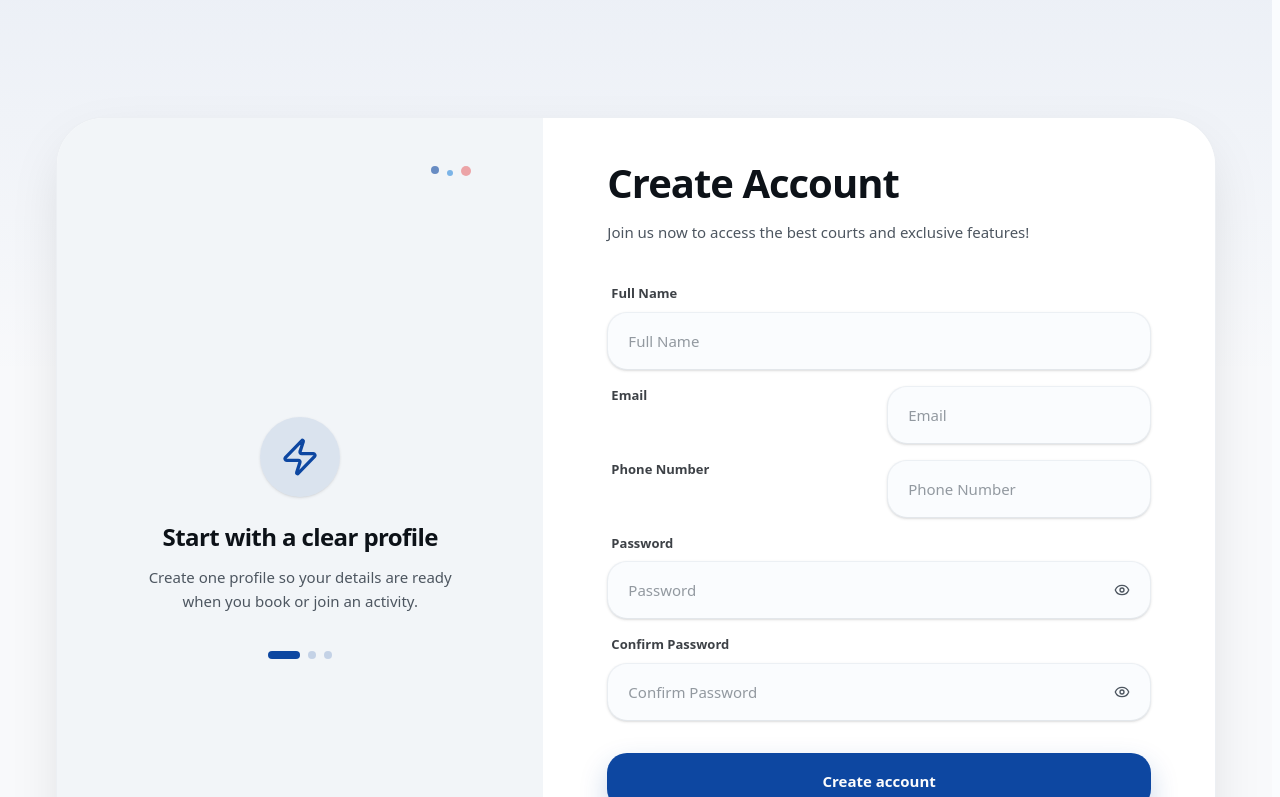
Test: Auth forms › RegisterForm › shows a visible error when registration fails because of a network issue
Type "Fresh User" into the field with placeholder "Full Name".
click(879, 341); type("Fresh User")  # box [608,313,1150,369]
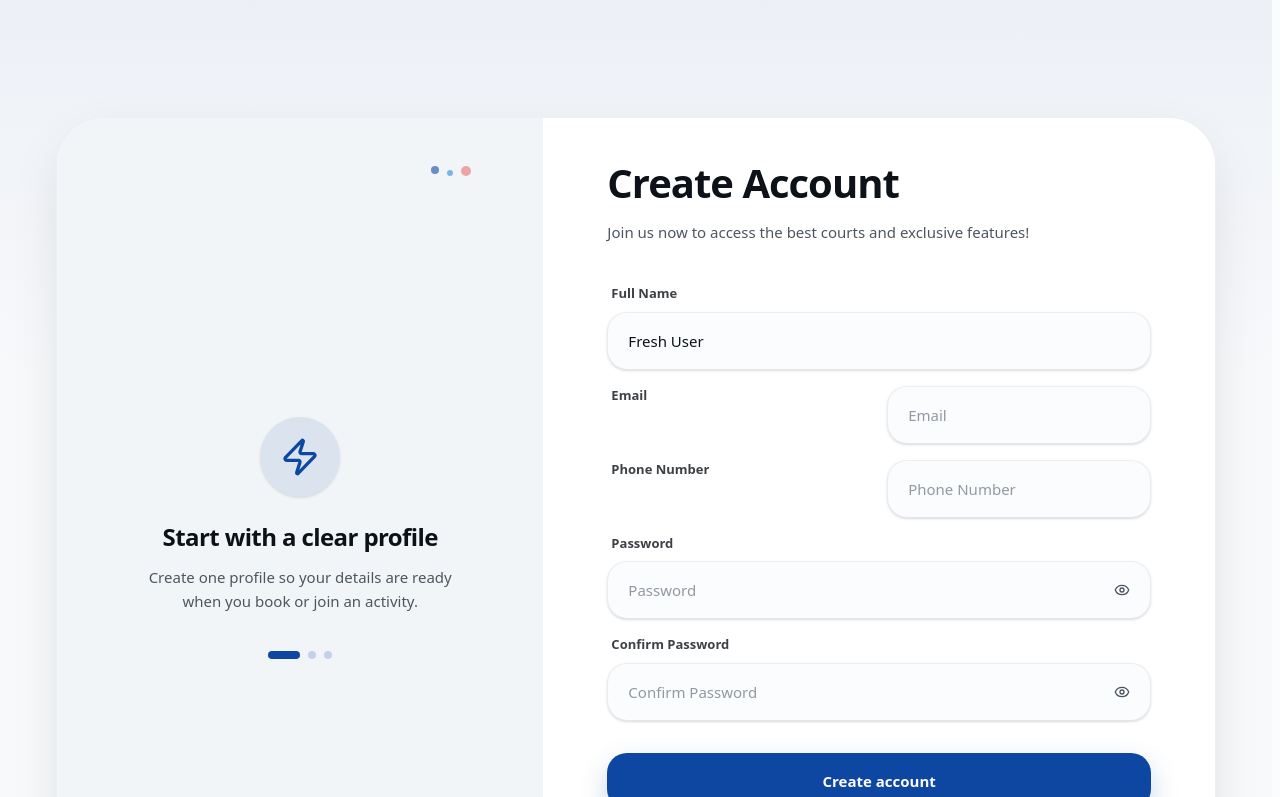
Type "fresh@example.com" into the field with placeholder "Email".
click(1019, 415); type("fresh@example.com")  # box [888,387,1150,443]
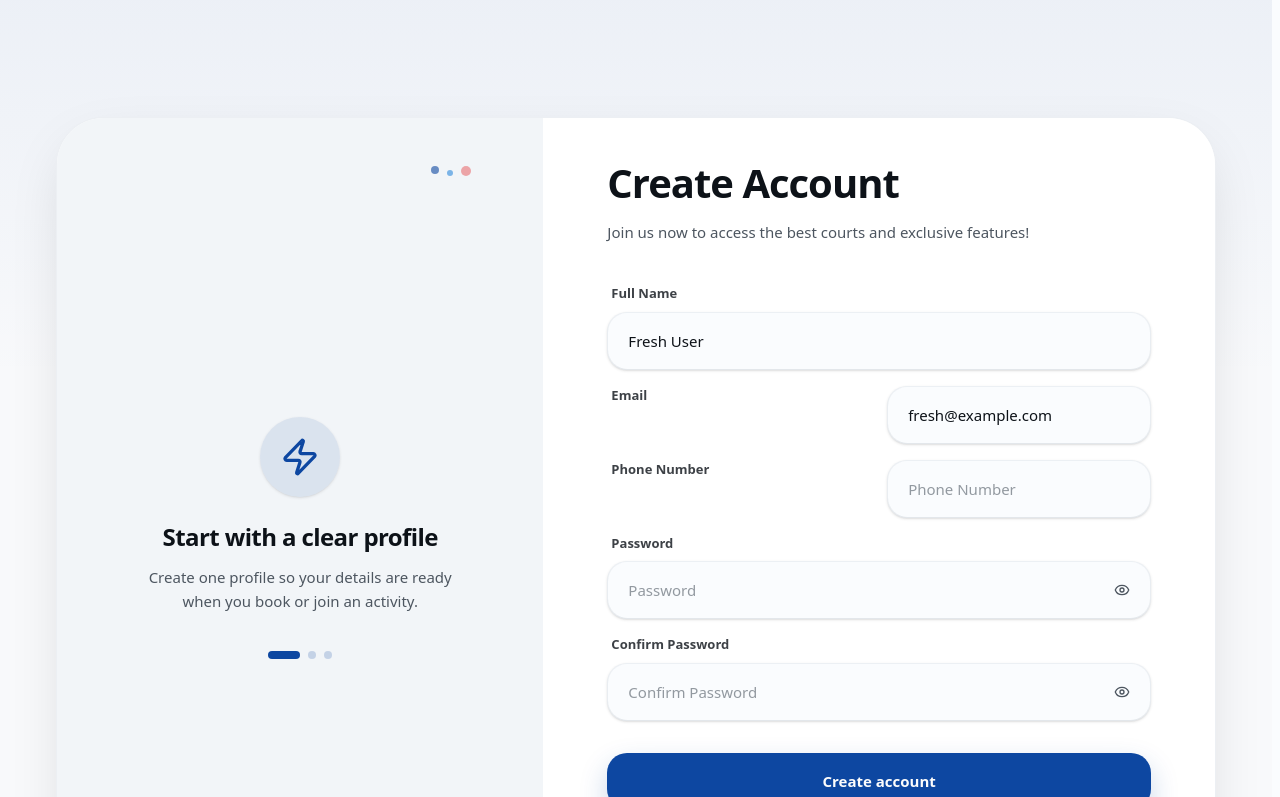
Type "01012345678" into the field with placeholder "Phone Number".
click(1019, 489); type("01012345678")  # box [888,461,1150,517]
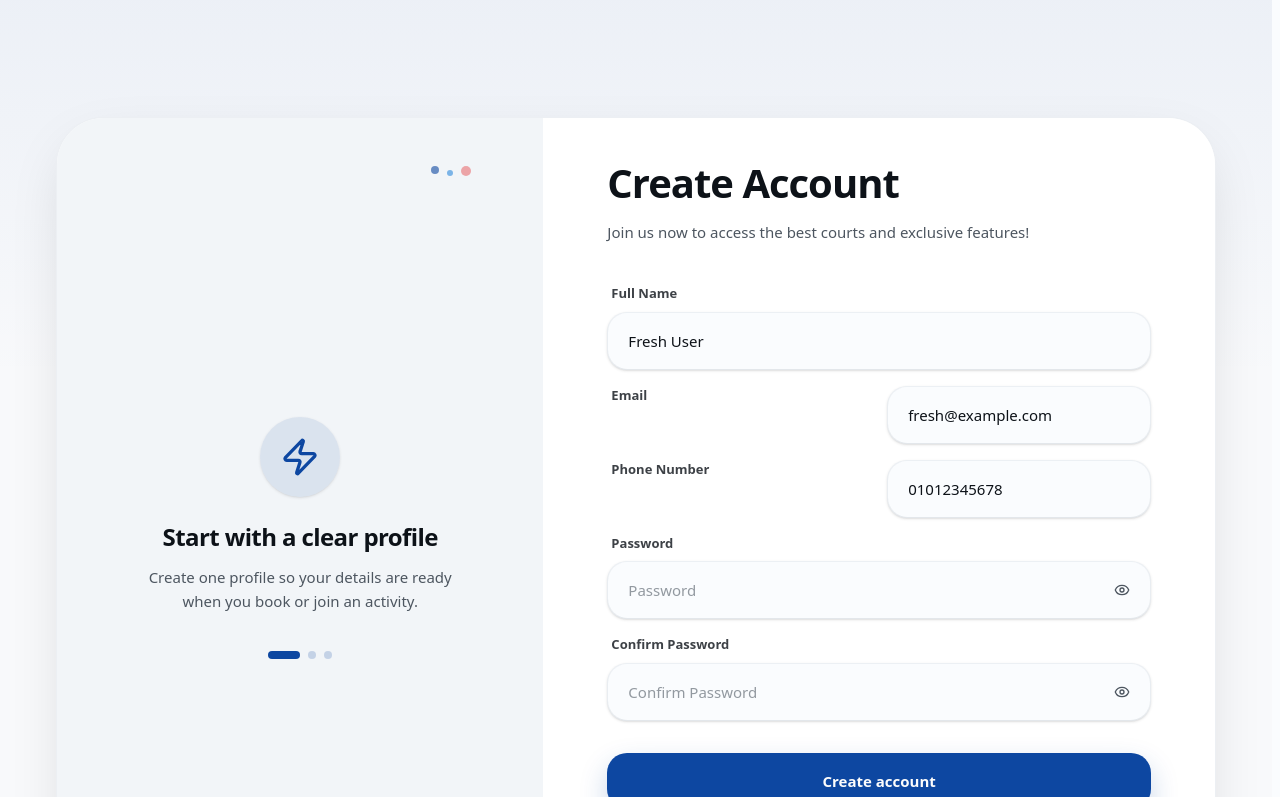
Type "Password123" into the password field with placeholder "Password".
click(879, 590); type("Password123")  # box [608,562,1150,618]
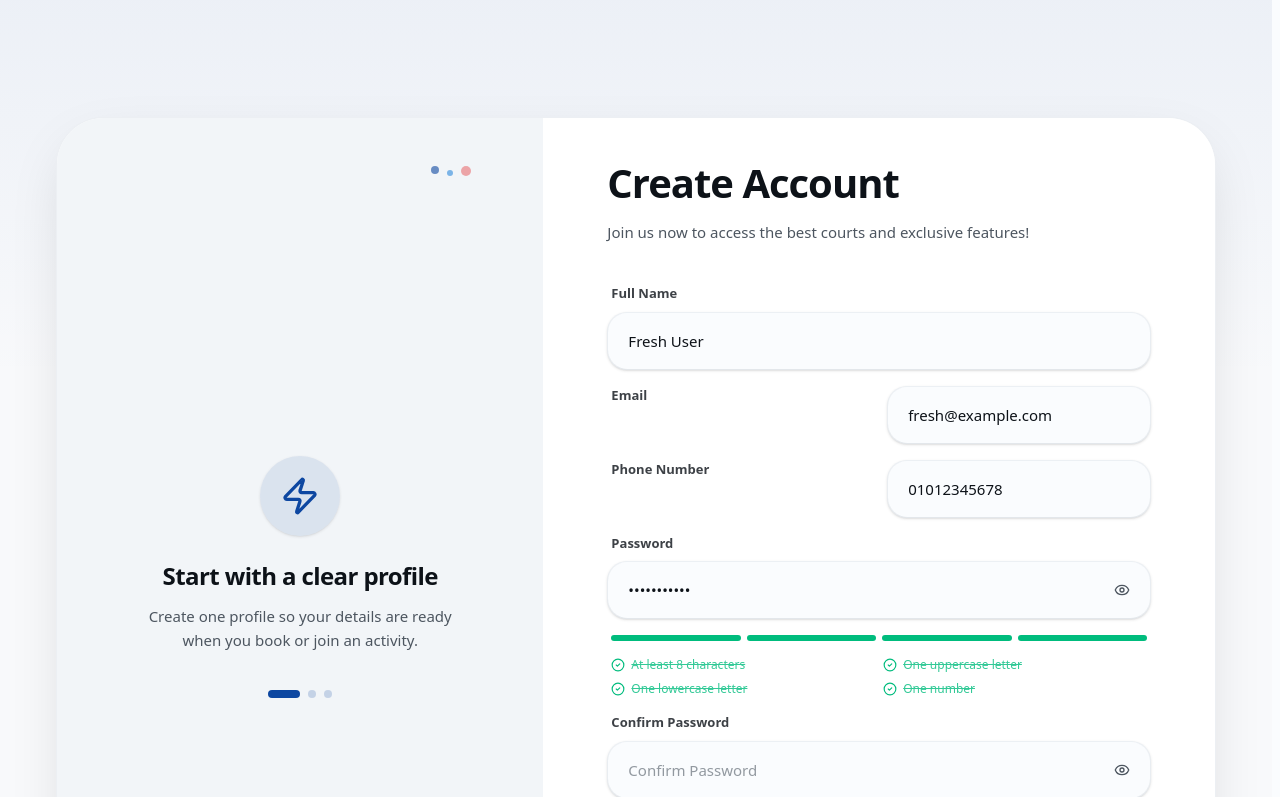
Type "Password123" into the password field with placeholder "Confirm Password".
click(879, 770); type("Password123")  # box [608,742,1150,796]
(page scrolled)
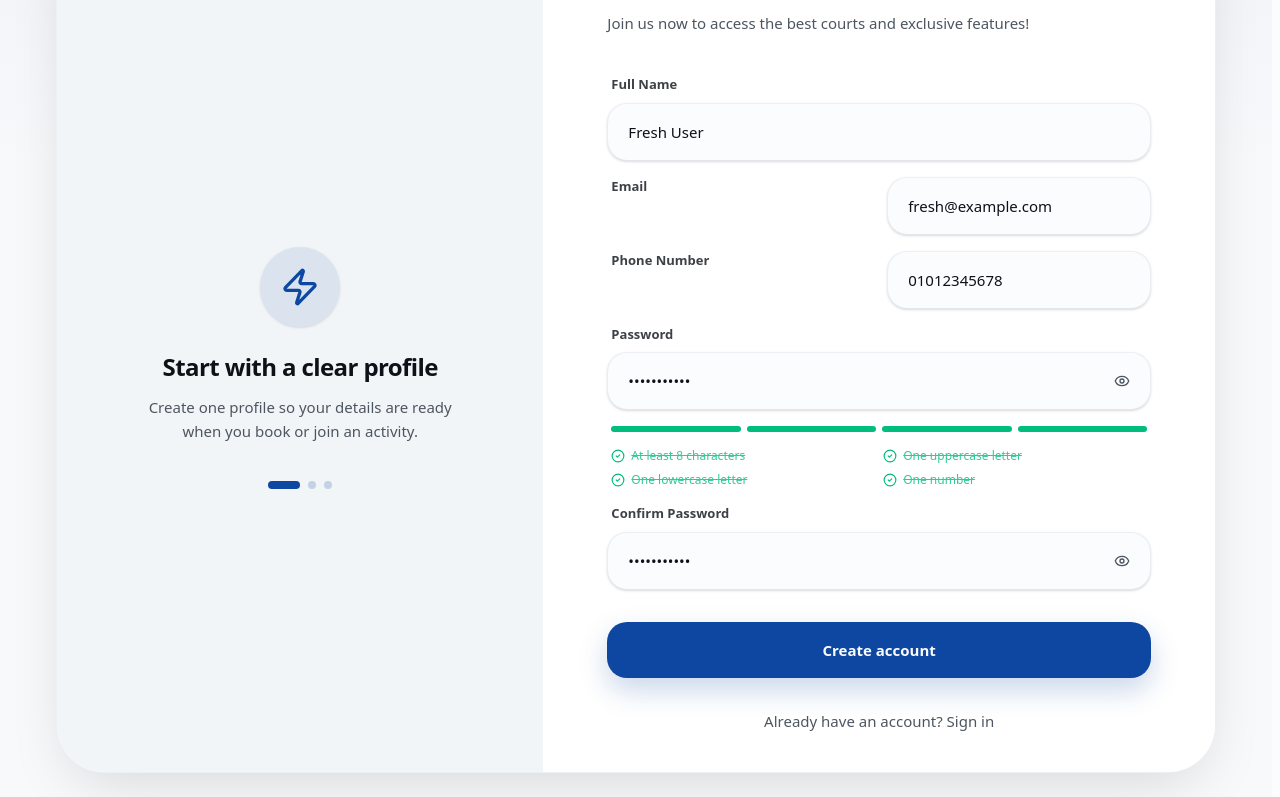
Click the button "Create account".
click(879, 650)  # box [607,622,1151,678]
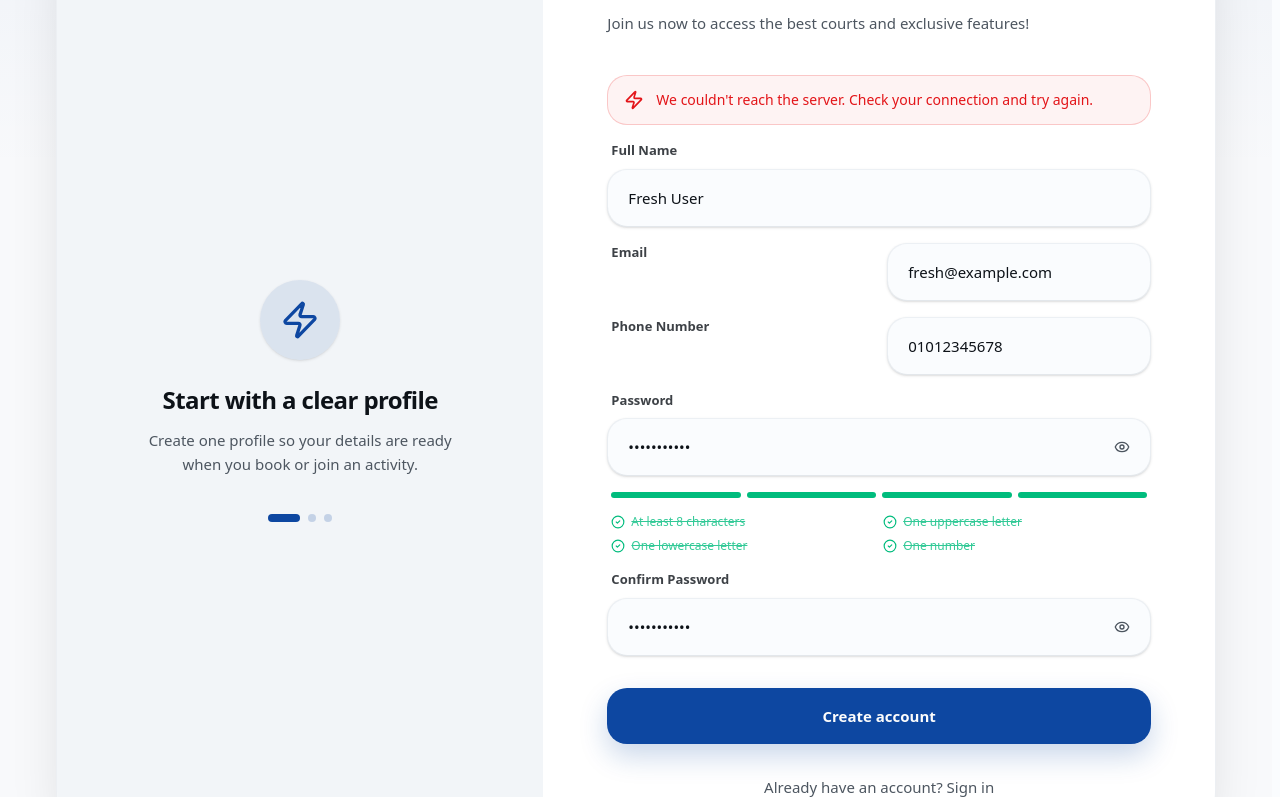
Result: the text "We couldn't reach the server. Check your connection and try again." is shown at [656,90,1093,110]
